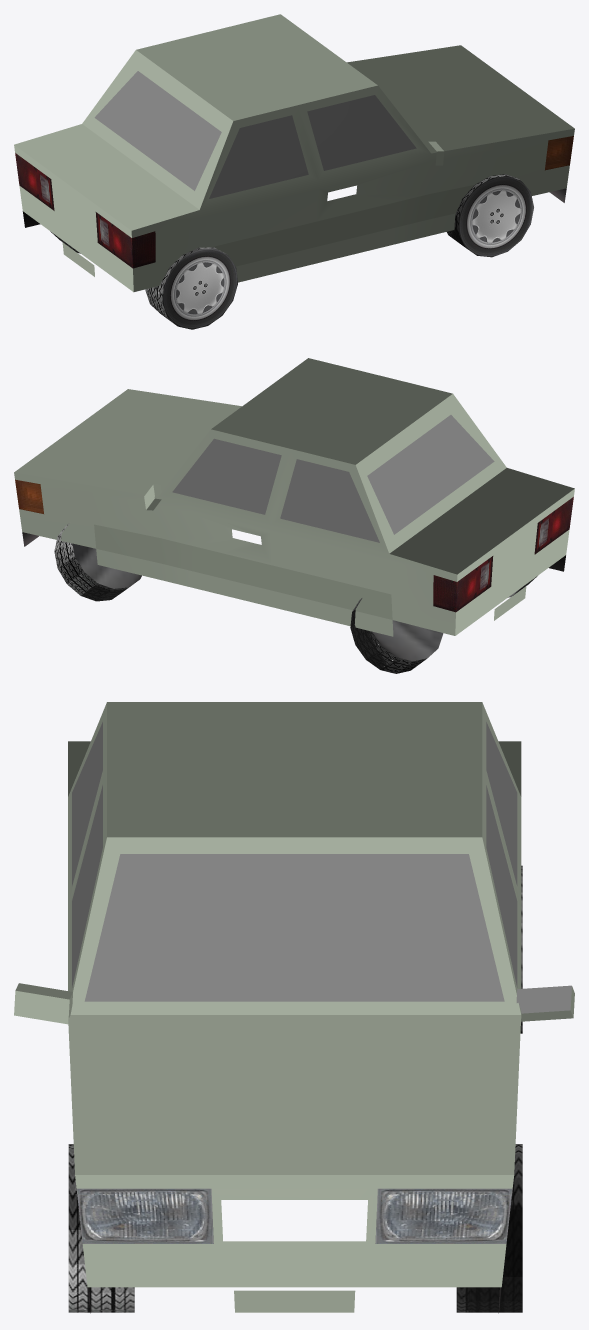
Rendered from SEDAN.gltf.
3 views of the same model, one above another, from view 1: azimuth 30°, elevation 25°; view 2: azimuth 150°, elevation 25°; view 3: azimuth 270°, elevation 25° (orthographic). The views are drawn at different scales.
Parts seen in each view (by area): view 1: Body3, WheelRL012, WheelRL011; view 2: Body3, WheelRL010, WheelRL009; view 3: Body3, WheelRL009, WheelRL011, pCube3, pCube2.
Boxes of the visible parts, x1,y1,x2,y2 form: Body3: (14, 14, 574, 292); WheelRL012: (145, 247, 237, 329); WheelRL011: (447, 174, 533, 257); Body3: (14, 358, 574, 636); WheelRL010: (350, 598, 443, 673); WheelRL009: (54, 523, 141, 601); Body3: (68, 702, 521, 1313); WheelRL009: (456, 1144, 522, 1312); WheelRL011: (68, 1144, 134, 1312); pCube3: (14, 983, 72, 1024); pCube2: (516, 985, 574, 1021).
Size of the model in its own units: 1.19 by 0.4867 by 0.6762.
Materials: 6 (3 with a texture image).
